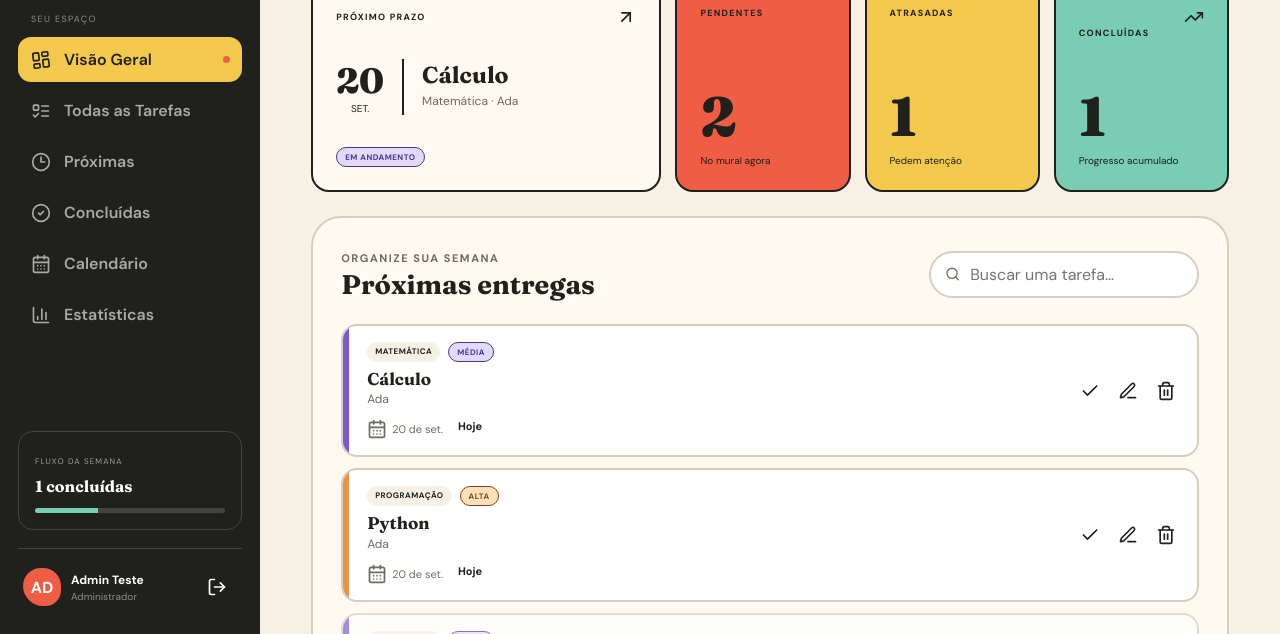
Scenario: App tarefas e visualizações › busca é case-insensitive e mostra empty state
The image size is (1280, 634).
(page scrolled)
Expected: the text "Admin Teste" is shown, x1=71 y1=572 x2=144 y2=588
In the field named "Buscar tarefa": (1075, 274) x1=968 y1=262 x2=1183 y2=286, type "pYtHoN"
(page scrolled)
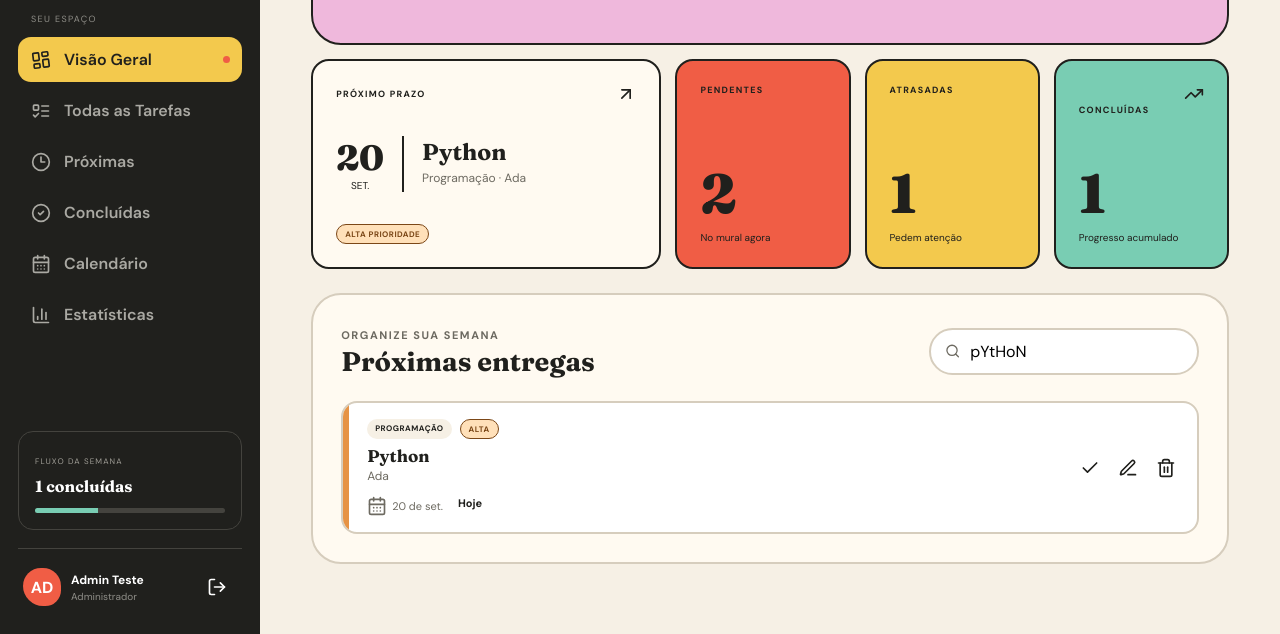
Result: the heading "Cálculo" is gone
Clear the field named "Buscar tarefa": (1075, 351) x1=968 y1=340 x2=1183 y2=362
(page scrolled)
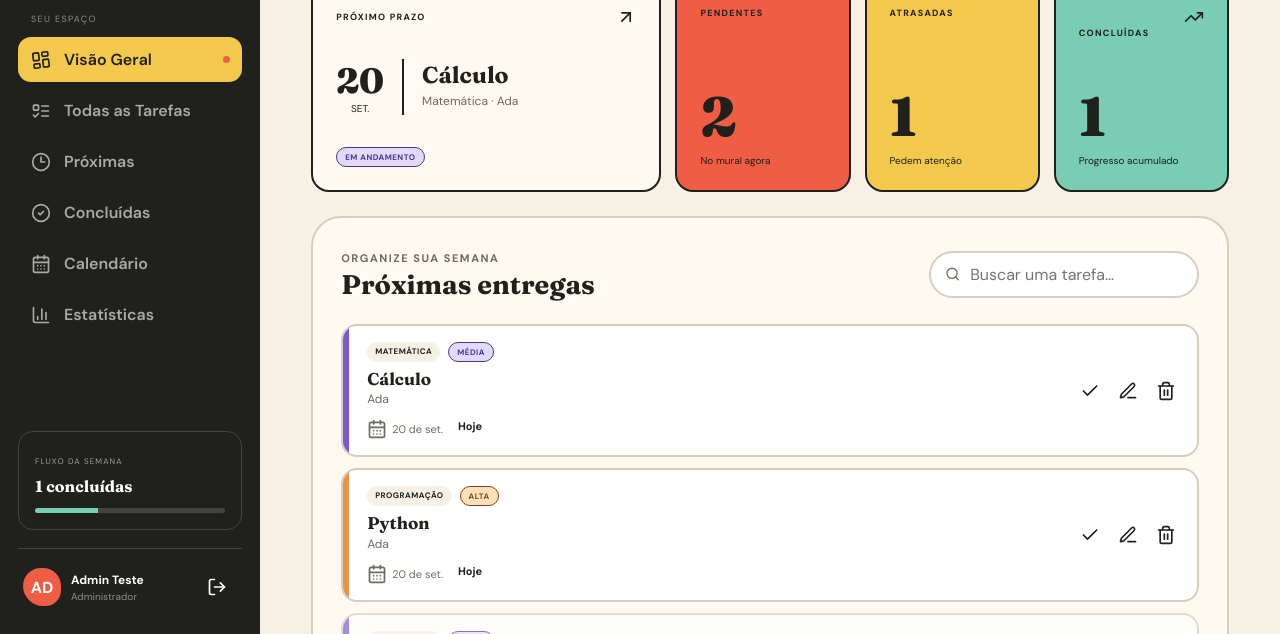
In the field named "Buscar tarefa": (1075, 274) x1=968 y1=262 x2=1183 y2=286, type "inexistente"
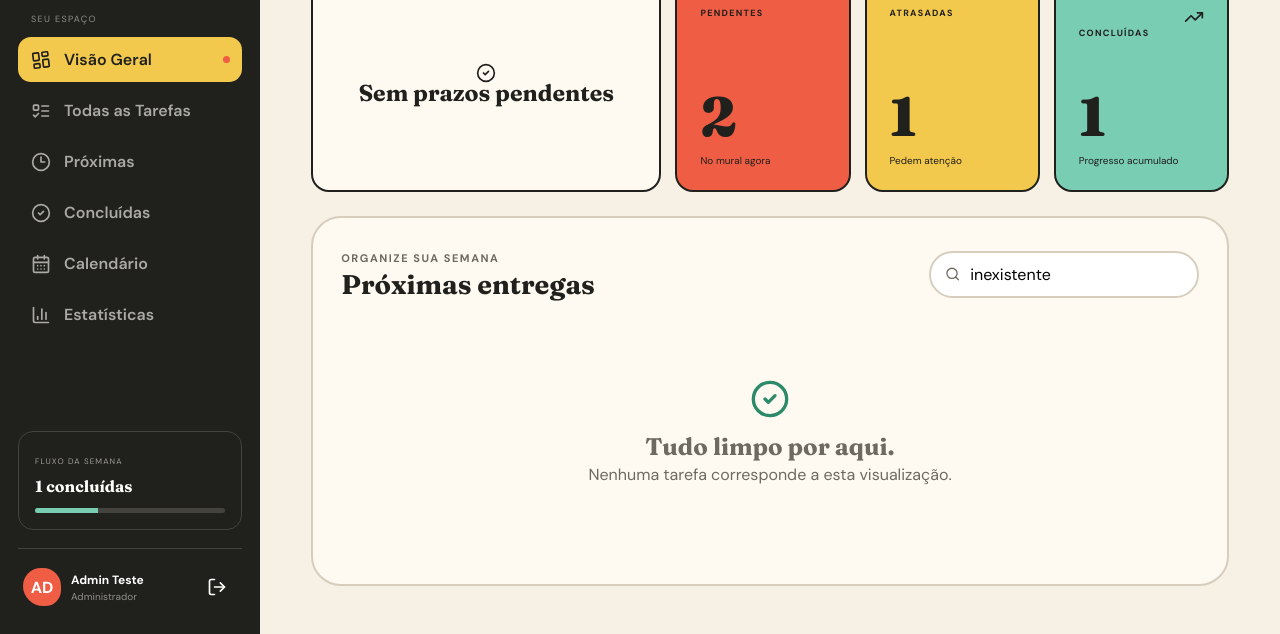
Result: the heading "Tudo limpo por aqui." is shown at x1=645 y1=432 x2=895 y2=461
